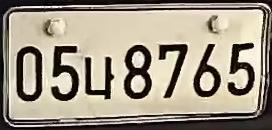0: (13, 43, 47, 107)
5: (47, 41, 83, 105), (225, 40, 258, 100)
6: (191, 41, 225, 102)
7: (155, 40, 192, 104)
8: (119, 40, 155, 101)
나: (81, 52, 117, 104)
